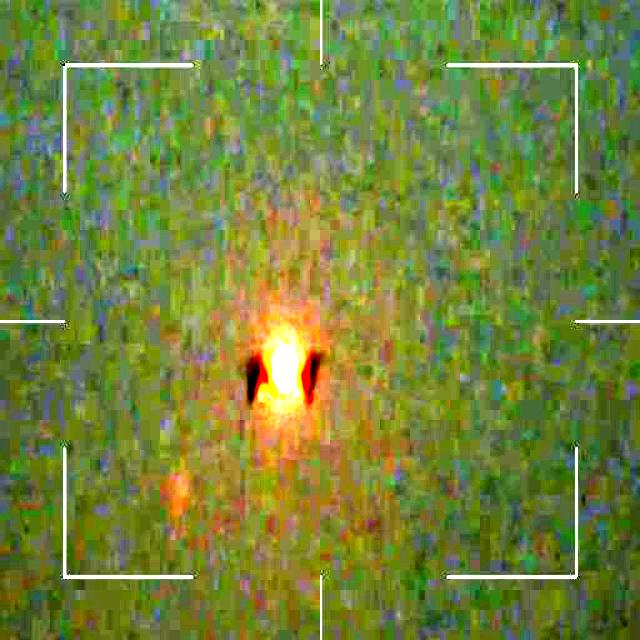bird: (245, 328, 322, 406)
